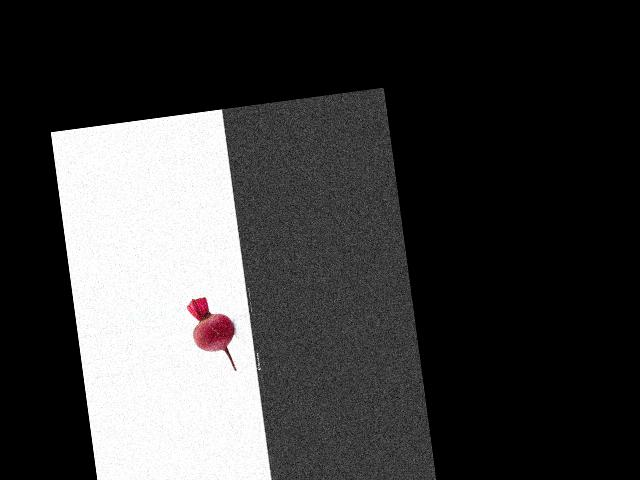beet: (186, 293, 239, 375)
